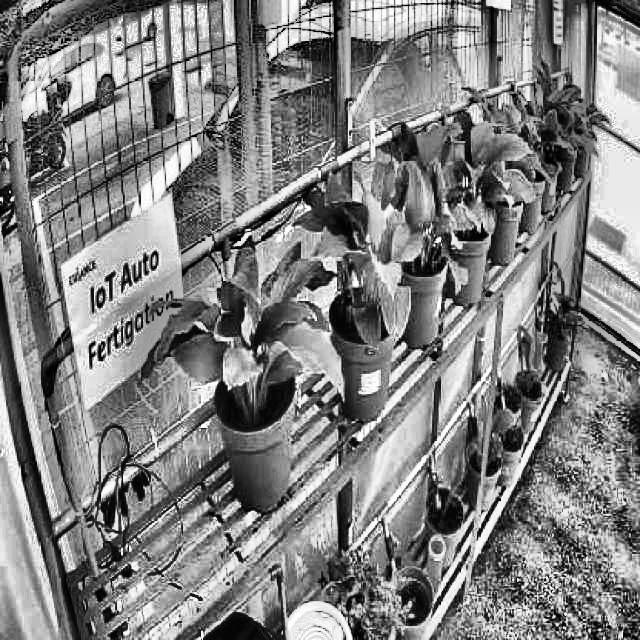plants: (140, 242, 346, 416), (310, 176, 410, 350), (416, 108, 538, 241), (374, 150, 468, 304)
